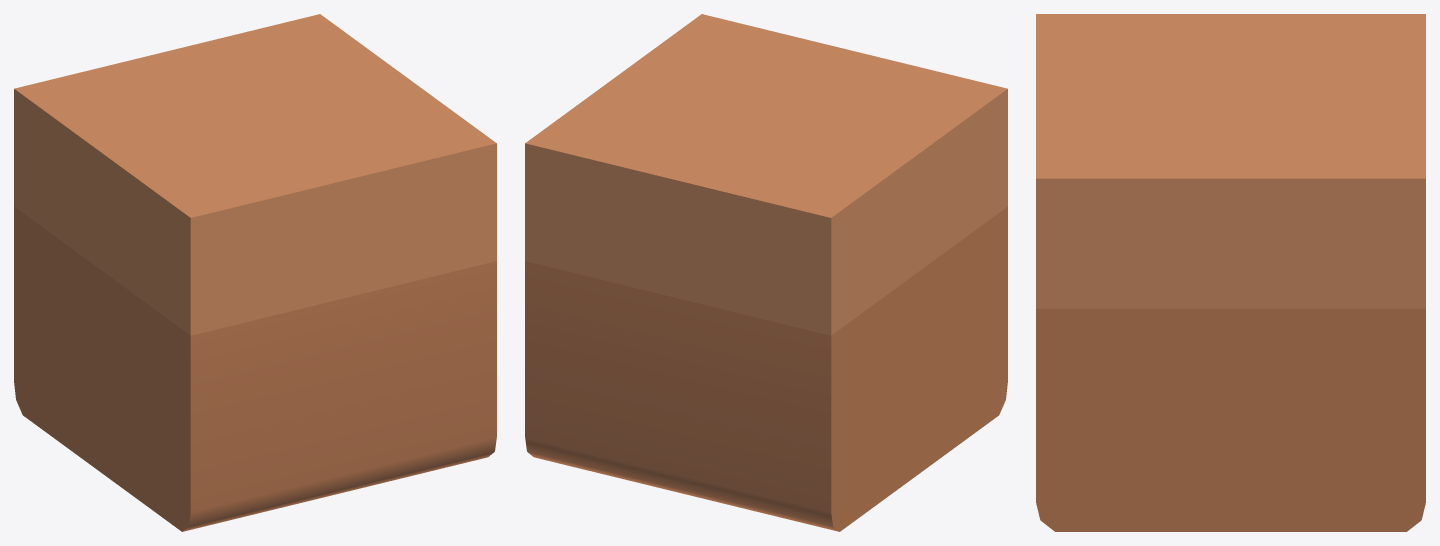
File: normal_tile_botton_center.glb
The picture shows the model from 3 angles, left to right: view 1: azimuth 30°, elevation 25°; view 2: azimuth 150°, elevation 25°; view 3: azimuth 270°, elevation 25°; orthographic projection. The views are drawn at different scales.
Parts seen in each view (by area): view 1: tile_botton_center; view 2: tile_botton_center; view 3: tile_botton_center.
Part boxes in pixels (bbox=[...]): tile_botton_center: bbox=[14, 14, 496, 531]; tile_botton_center: bbox=[525, 14, 1007, 531]; tile_botton_center: bbox=[1036, 14, 1425, 531].
Size of the model in its own units: 0.5 by 0.5 by 0.5.
